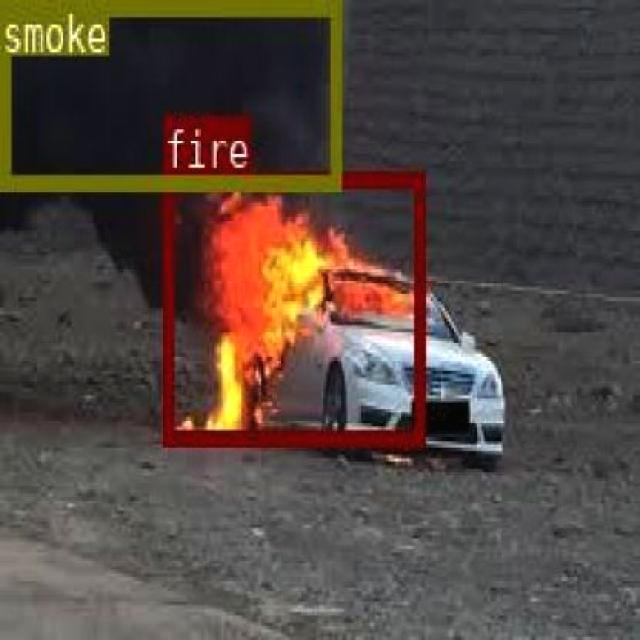fire: (162, 170, 422, 444)
smoke: (0, 0, 337, 189)
